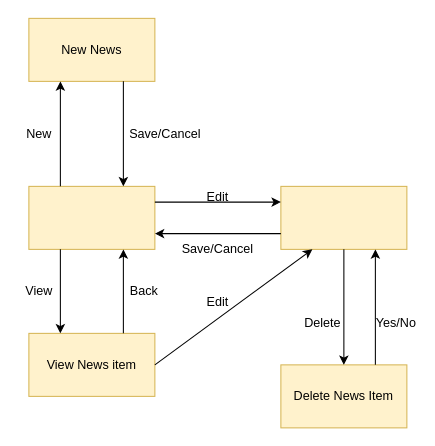
This 435x446 diagram has some shape labels left out. The shapes that lost their labels are listed below. From the top down, each one's box as (x1, y1, x2, y2) in pixels, then its label:
(28, 185, 155, 249): List of News
(280, 185, 407, 249): Edit News
